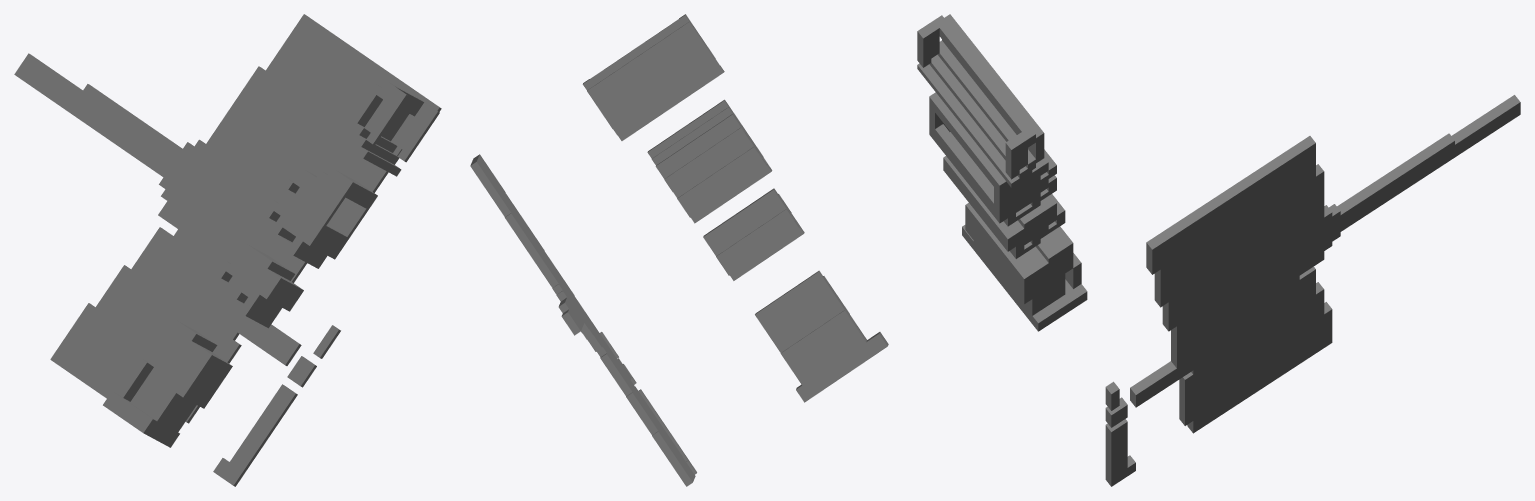
The model's file is tile_3_4.glb.
3 renders of one model, left to right at view 1: azimuth 30°, elevation 25°; view 2: azimuth 150°, elevation 25°; view 3: azimuth 270°, elevation 25°, orthographic. The views are drawn at different scales.
Parts seen in each view (by area): view 1: universal_minecraft:concrete:up, universal_minecraft:stone_bricks:north, universal_minecraft:stone_bricks:up, universal_minecraft:terracotta:up, universal_minecraft:grass_block:up, universal_minecraft:concrete:north, universal_minecraft:stone_bricks:west; view 2: universal_minecraft:stone_bricks:south, universal_minecraft:concrete:south, universal_minecraft:concrete:up, universal_minecraft:stone_bricks:west, universal_minecraft:stone_bricks:up; view 3: universal_minecraft:concrete:down, universal_minecraft:stone_bricks:west, universal_minecraft:stone_bricks:north, universal_minecraft:concrete:west, universal_minecraft:stone_bricks:down, universal_minecraft:grass_block:down, universal_minecraft:concrete:north.
Boxes of the visible parts, x1,y1,x2,y2 form: universal_minecraft:concrete:up: (14, 14, 439, 485); universal_minecraft:stone_bricks:north: (123, 87, 423, 432); universal_minecraft:stone_bricks:up: (116, 81, 392, 420); universal_minecraft:terracotta:up: (130, 85, 405, 416); universal_minecraft:grass_block:up: (327, 102, 437, 236); universal_minecraft:concrete:north: (143, 107, 441, 486); universal_minecraft:stone_bricks:west: (142, 81, 424, 365); universal_minecraft:stone_bricks:south: (582, 15, 865, 385); universal_minecraft:concrete:south: (470, 162, 887, 486); universal_minecraft:concrete:up: (476, 154, 888, 482); universal_minecraft:stone_bricks:west: (583, 15, 844, 352); universal_minecraft:stone_bricks:up: (685, 15, 866, 341); universal_minecraft:concrete:down: (1038, 102, 1520, 486); universal_minecraft:stone_bricks:west: (917, 14, 1081, 278); universal_minecraft:stone_bricks:north: (917, 28, 1073, 315); universal_minecraft:concrete:west: (962, 95, 1519, 467); universal_minecraft:stone_bricks:down: (999, 133, 1081, 315); universal_minecraft:grass_block:down: (999, 139, 1079, 325); universal_minecraft:concrete:north: (962, 227, 1193, 486).
Bounding box in the file's own units: 53.77 × 56.6 × 59.86.
Materials: 24 (24 with a texture image).
